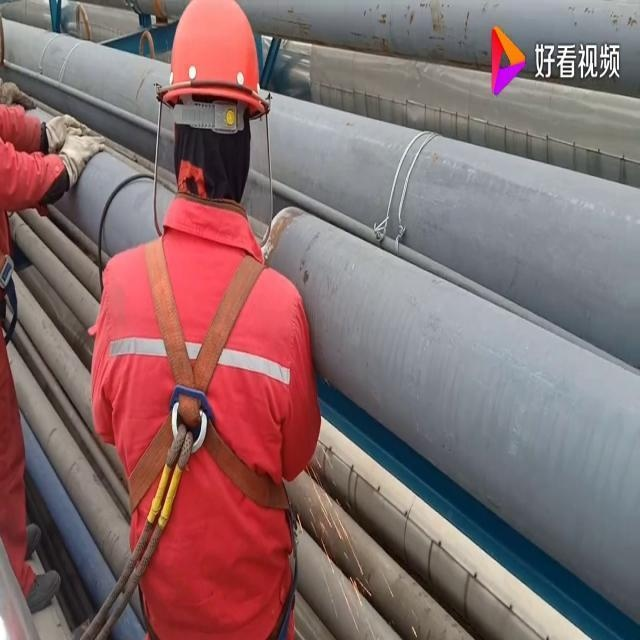Arnes_seguridad: (122, 224, 297, 527)
